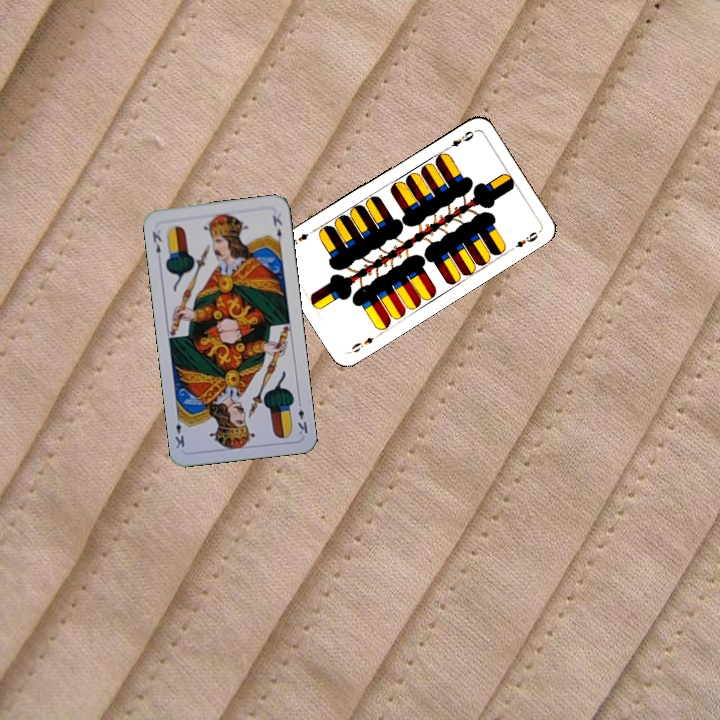E9: (346, 330, 383, 356), (441, 127, 477, 153)
EK: (294, 396, 310, 437), (148, 227, 164, 255)
